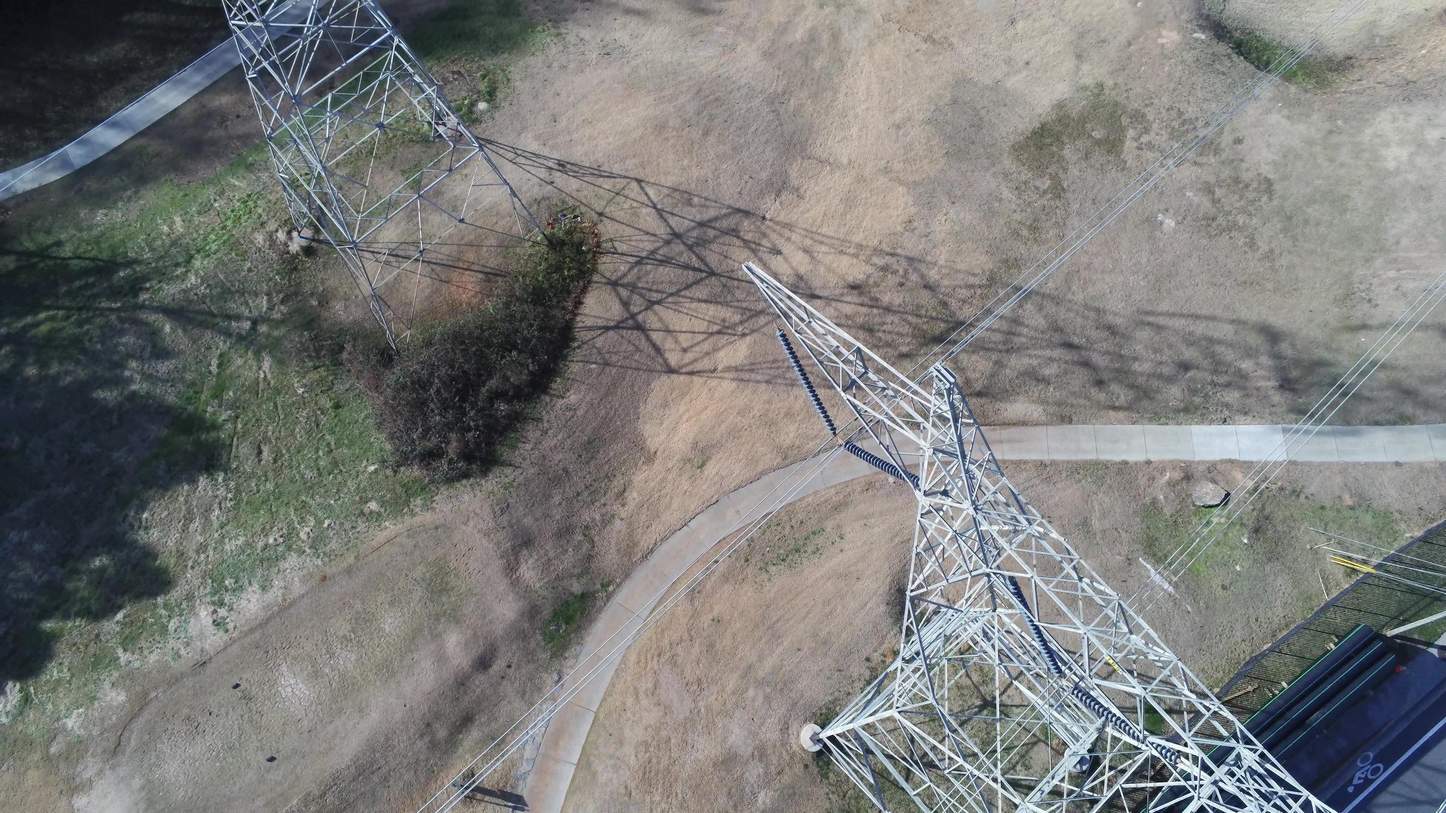power_tower: (742, 259, 1344, 813), (221, 0, 551, 365)
